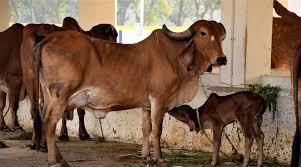cow: (34, 22, 226, 167), (170, 92, 266, 167)
